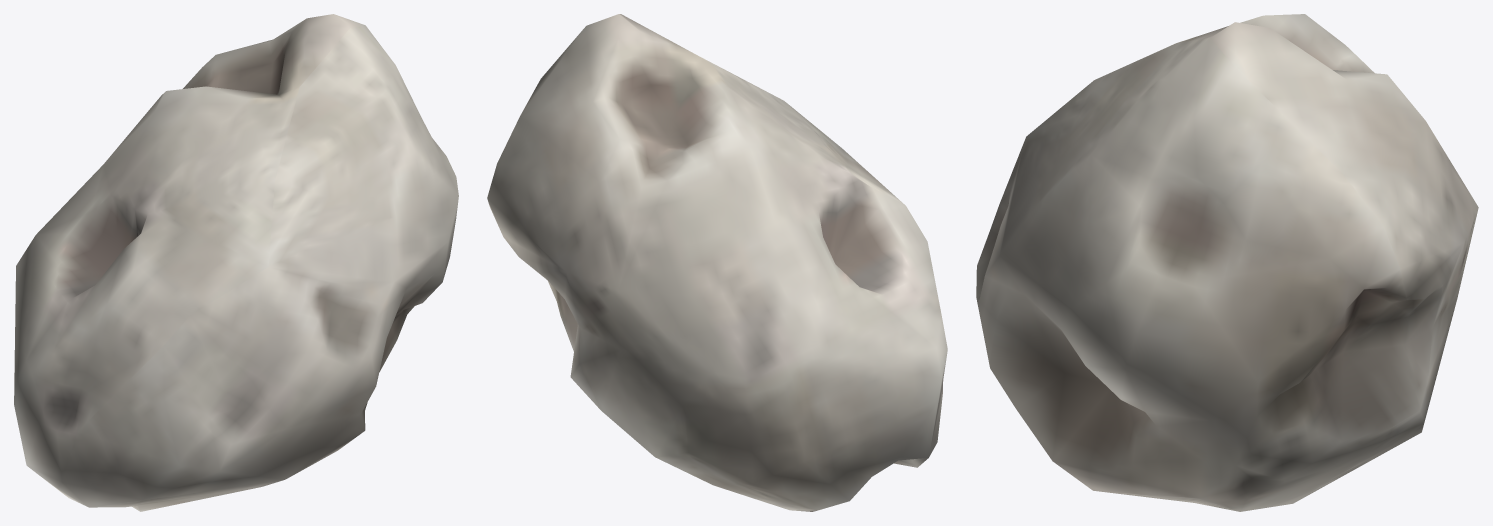
Rendered from asteroid.glb.
3 renders of one model, left to right at view 1: azimuth 30°, elevation 25°; view 2: azimuth 150°, elevation 25°; view 3: azimuth 270°, elevation 25°, orthographic. The views are drawn at different scales.
Parts seen in each view (by area): view 1: asteroid; view 2: asteroid; view 3: asteroid.
Boxes of the visible parts, left/top/right/bottom form: asteroid: left=14, top=14, right=458, bottom=511; asteroid: left=487, top=14, right=947, bottom=511; asteroid: left=976, top=14, right=1478, bottom=511.
Size of the model in its own units: 1.1 by 1.16 by 0.905.
Materials: 1 (1 with a texture image).
